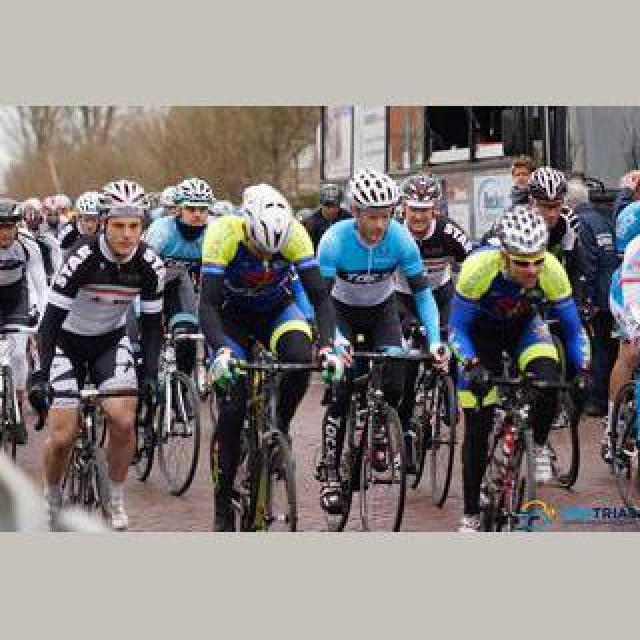MC-Bike: (450, 176, 586, 516), (44, 194, 178, 522), (314, 172, 438, 518), (214, 180, 326, 528), (144, 176, 248, 428), (394, 174, 470, 362), (0, 197, 48, 437)
Person: (476, 356, 578, 532), (314, 342, 408, 530), (218, 346, 312, 530), (134, 316, 204, 498), (44, 386, 120, 528), (404, 342, 462, 512)
